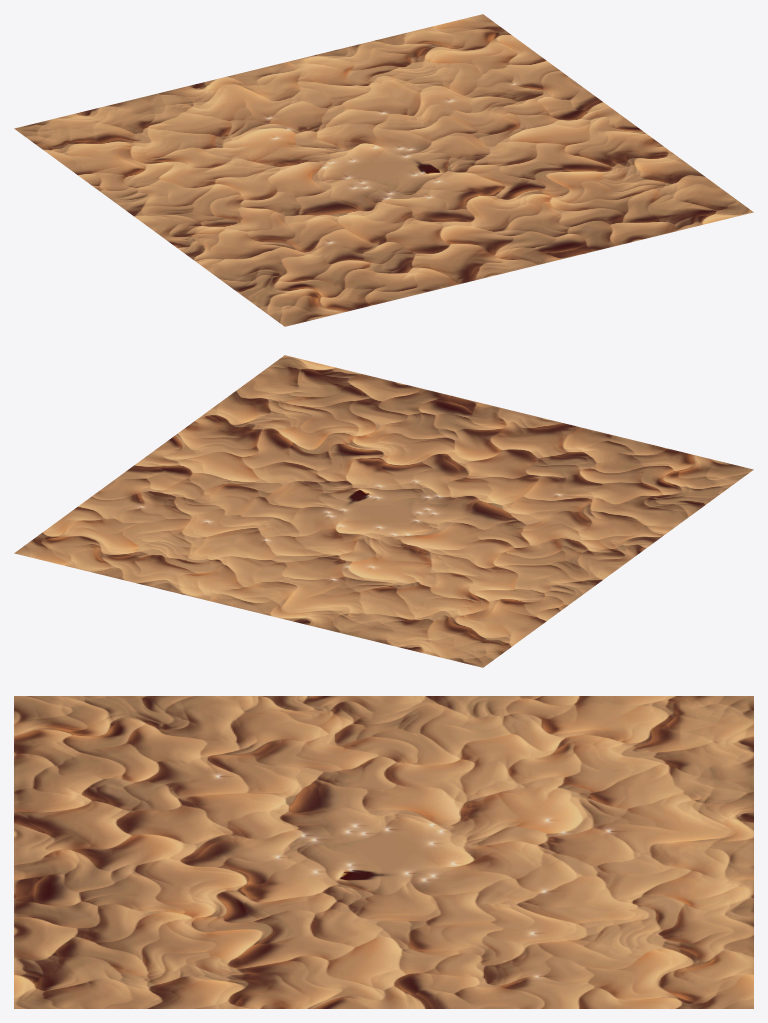
The model's file is station_space03.glb.
3 views of the same model, one above another, from view 1: azimuth 30°, elevation 25°; view 2: azimuth 150°, elevation 25°; view 3: azimuth 270°, elevation 25° (orthographic). The views are drawn at different scales.
Parts seen in each view (by area): view 1: land_out_station_space03; view 2: land_out_station_space03; view 3: land_out_station_space03.
Part boxes in pixels (x1=…): land_out_station_space03: x1=14, y1=14, x2=753, y2=326; land_out_station_space03: x1=14, y1=355, x2=753, y2=667; land_out_station_space03: x1=14, y1=696, x2=753, y2=1008.
Size of the model in its own units: 10 by 0 by 10.
1 material, 1 textured.
